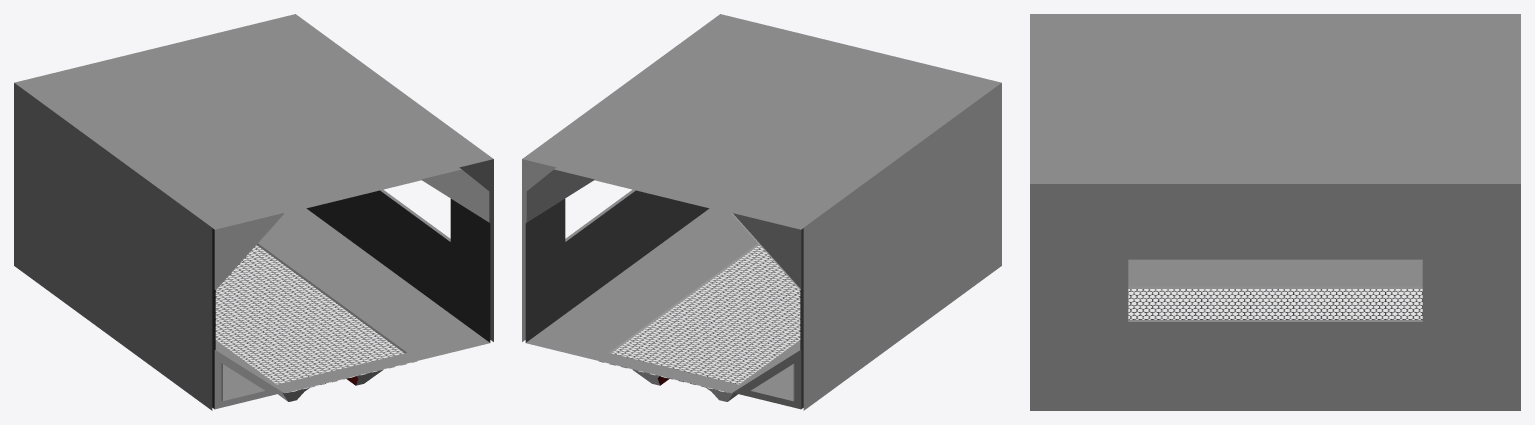
The model's file is Hall001.FBX.
3 renders of one model, left to right at view 1: azimuth 30°, elevation 25°; view 2: azimuth 150°, elevation 25°; view 3: azimuth 270°, elevation 25°, orthographic. The views are drawn at different scales.
Parts seen in each view (by area): view 1: Hall, Grating; view 2: Hall, Grating; view 3: Hall, Grating.
Part boxes in pixels (<box>): Hall: <box>14,14,493,410</box>; Grating: <box>215,245,416,393</box>; Hall: <box>522,14,1001,410</box>; Grating: <box>599,245,800,393</box>; Hall: <box>1030,14,1520,410</box>; Grating: <box>1128,289,1422,319</box>.
Size of the model in its own units: 410 by 305 by 500.
